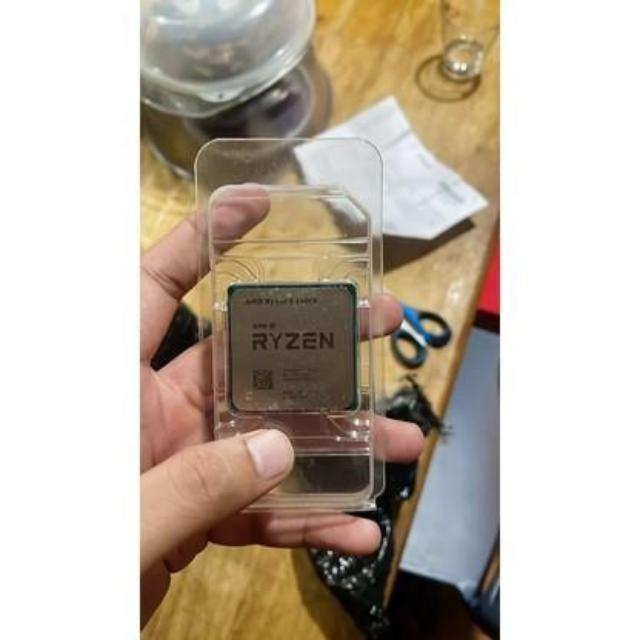CPU: (224, 285, 356, 417)
